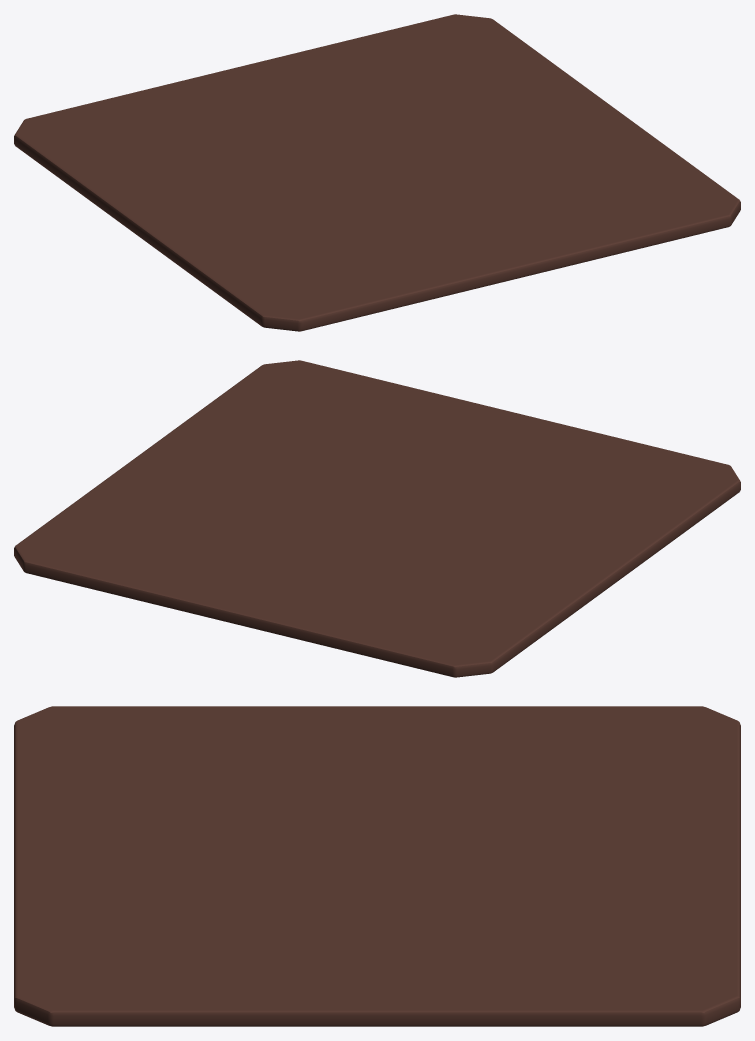
Rendered from table.fbx.
3 renders of one model, top to bottom at view 1: azimuth 30°, elevation 25°; view 2: azimuth 150°, elevation 25°; view 3: azimuth 270°, elevation 25°, orthographic. The views are drawn at different scales.
Visible parts, largest first — view 1: pCube1; view 2: pCube1; view 3: pCube1.
Part boxes in pixels (x1=…): pCube1: x1=14, y1=14, x2=740, y2=331; pCube1: x1=14, y1=360, x2=740, y2=677; pCube1: x1=14, y1=706, x2=740, y2=1026.
Bounding box in the file's own units: 20 × 0.5 × 20.
1 material, 1 textured.
